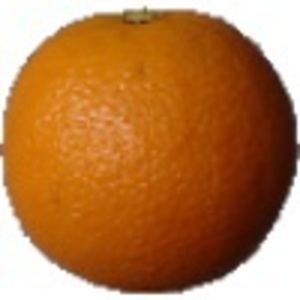laranja: (3, 3, 297, 297)
